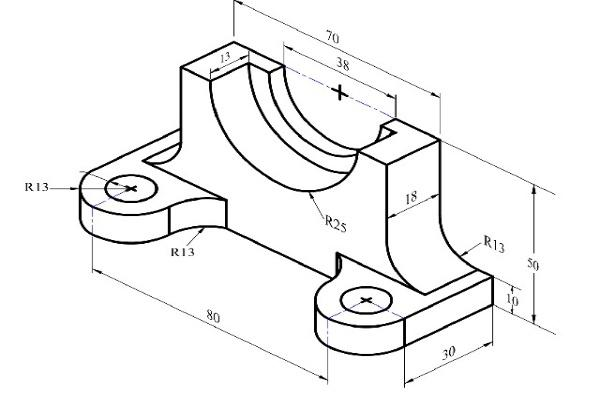dimensions: (479, 227, 509, 256), (321, 211, 353, 237), (398, 186, 426, 212), (316, 23, 346, 47), (17, 180, 59, 197), (165, 245, 200, 262), (436, 343, 461, 365), (202, 304, 226, 324), (523, 252, 543, 274), (334, 55, 354, 75), (502, 291, 523, 309), (215, 51, 237, 67)
